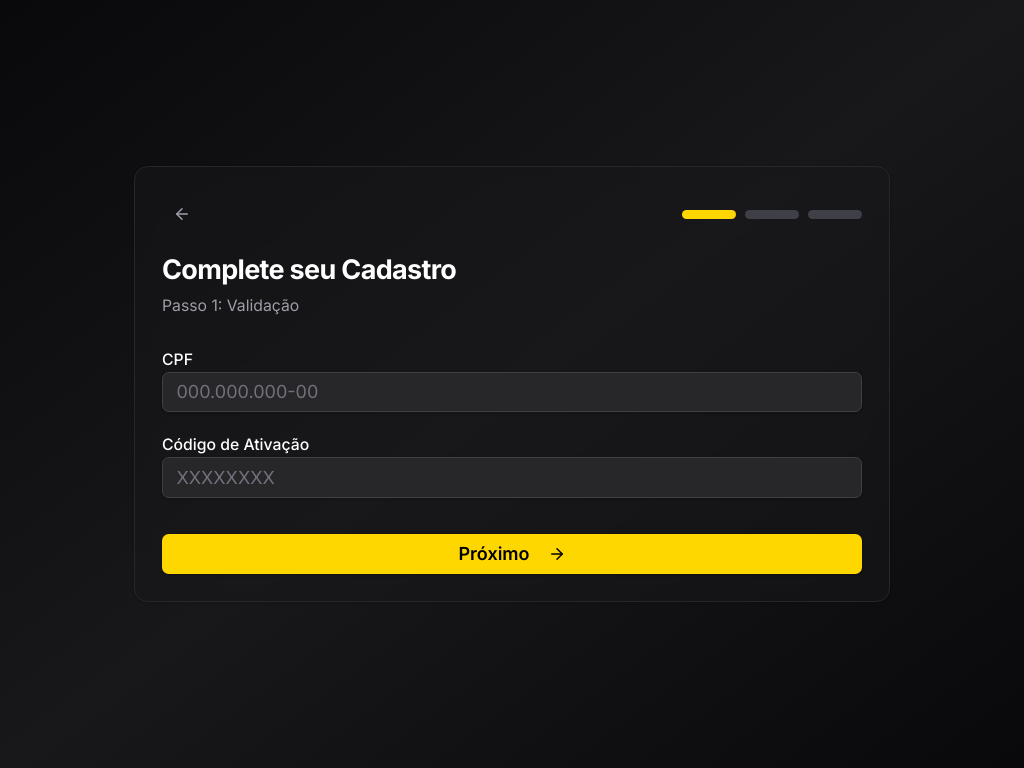
Test case: Complete Registration Page › Step 1 - Validation › should validate empty activation code
Step 1. Type "61120319064" into the field with test id "registration-cpf-input" → [512, 392], box [162, 372, 862, 412]
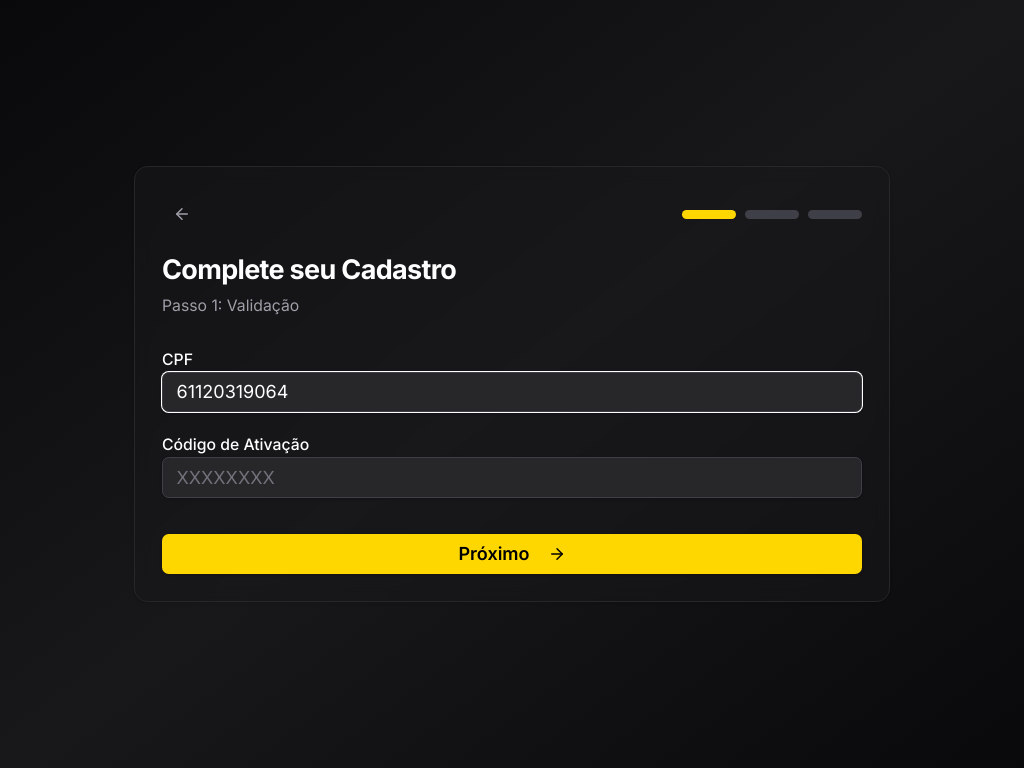
Step 2. Click the button with test id "step1-next-button" → [512, 554], box [162, 534, 862, 574]
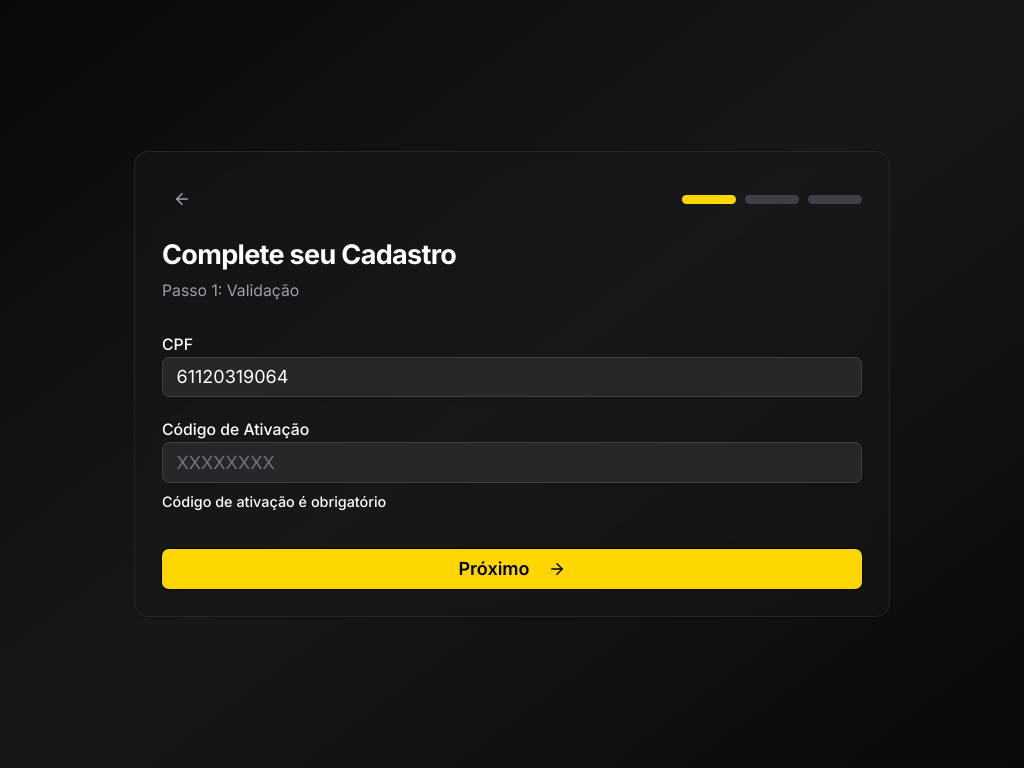
Result: the text "Código de ativação é obrigatório" is shown at [162, 493, 386, 510]
